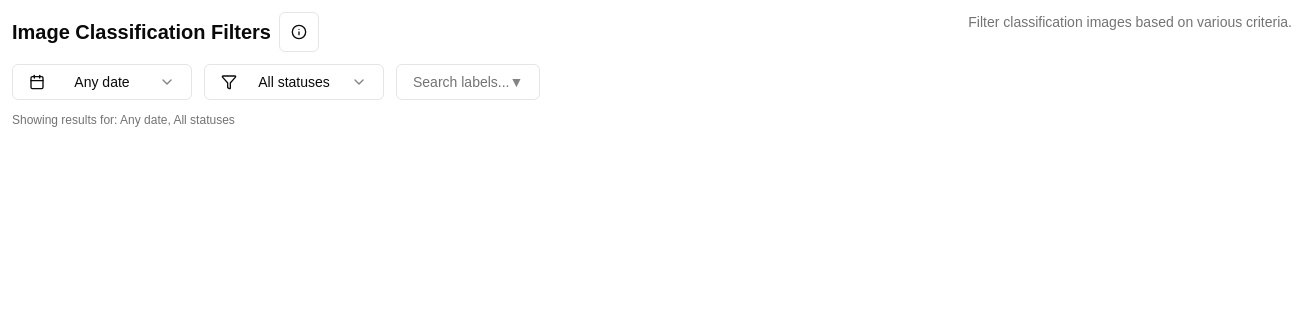
it: ImageClassificationFilter Component › updates date filter when an option is selected
The image size is (1308, 330).
Click the button "Any date".
click(102, 82)  # box [12,64,192,100]
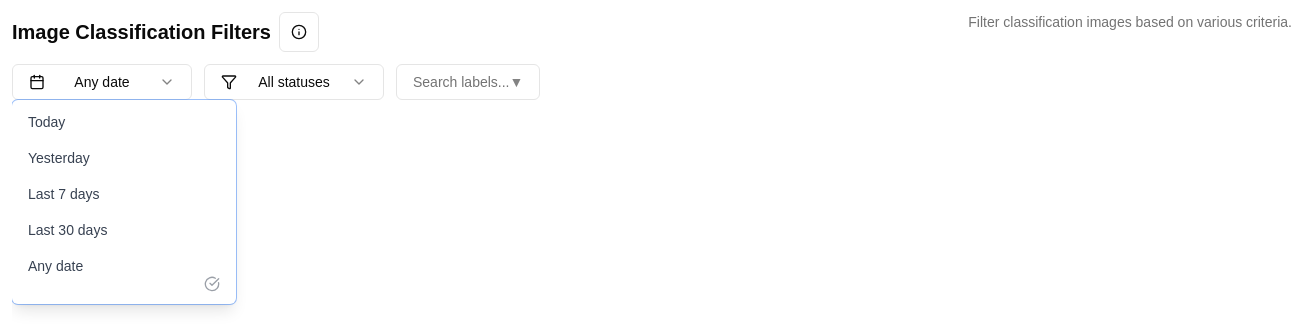
Click the menu item "Last 7 days".
click(64, 194)  # box [28,186,100,202]
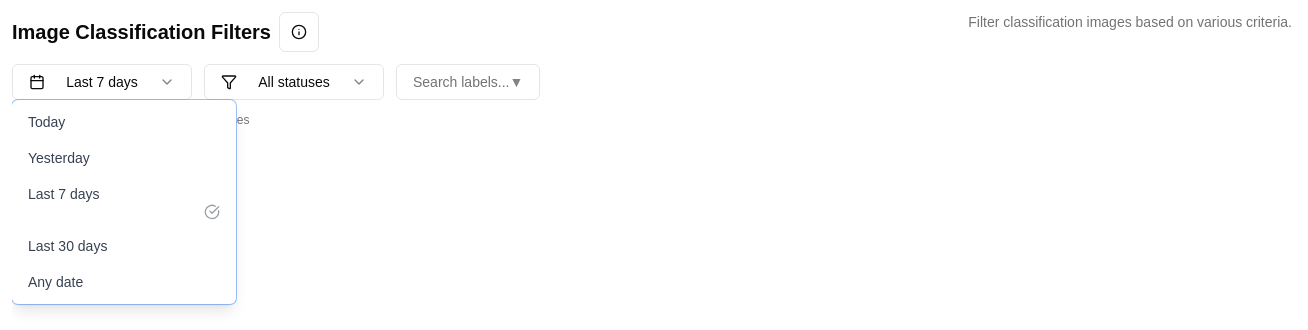
Now the button "Last 7 days" is shown, box [12,64,192,100]
